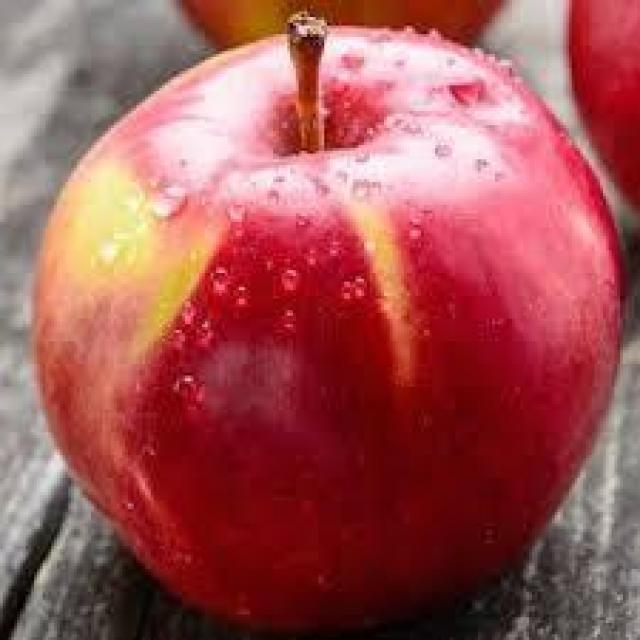apple: (33, 15, 622, 631)
